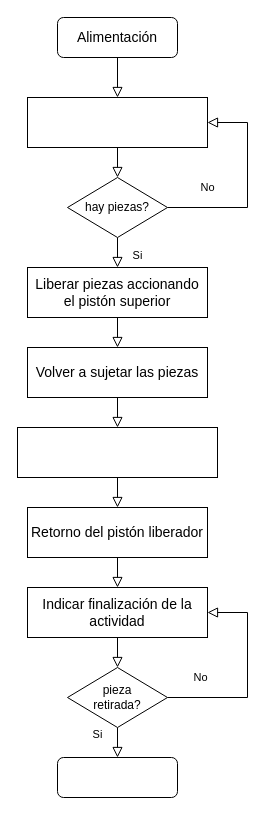
This 275x815 diagram has some shape labels left out. Here are the shapes that lost their labels. From the top down, the box of each, then its label:
(26, 96, 208, 148): Sujetar piezas extendiendo el pistón superior
(16, 426, 218, 478): Llevar piezas hacia adelante extendiendo el pistón liberador
(56, 756, 178, 798): Fin
